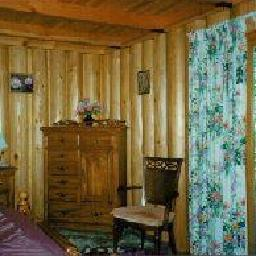Armario: (45, 128, 116, 227)
